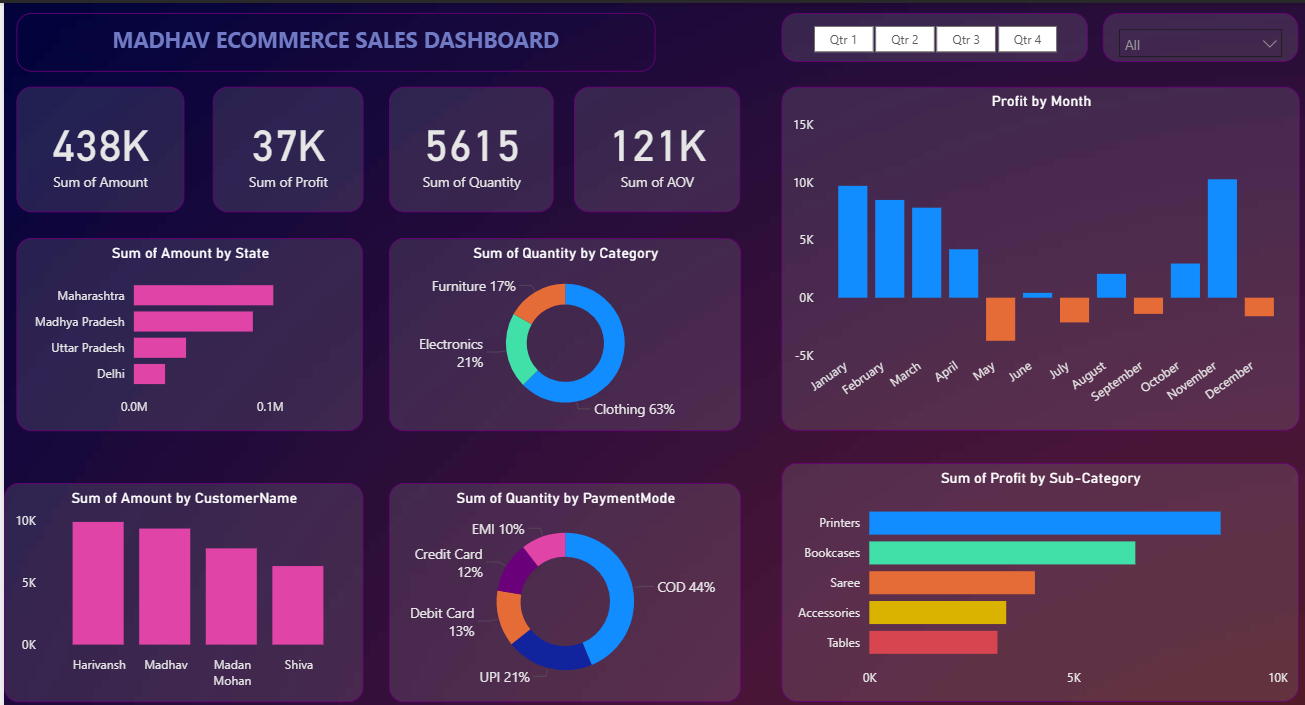

This screenshot's page, from the dashboard's own definition file:
{"tool":"powerbi","page":{"name":"Page 1","canvas":[1280,720],"ordinal":0},"visuals":[{"type":"textbox","box":[12.3,9.6,627.1,57.6],"z":0},{"type":"columnChart","title":"Profit by Month","fields":{"Category":["Orders.Order Date.Variation.Date Hierarchy.Month"],"Y":["Details.Profit"]},"box":[763,82.3,509.1,337.6],"z":1000},{"type":"barChart","fields":{"Category":["Details.Sub-Category"],"Y":["Details.Profit"]},"box":[763,451.5,507.7,234.6],"z":2000},{"type":"donutChart","fields":{"Category":["Details.Category"],"Y":["Details.Quantity"]},"box":[377.4,230.5,345.8,189.4],"z":3000},{"type":"donutChart","fields":{"Y":["Details.Quantity"],"Category":["Details.PaymentMode"]},"box":[377.4,470.7,345.8,215.4],"z":4000},{"type":"card","fields":{"Values":["Details.Amount"]},"box":[12.3,82.3,164.7,123.5],"z":5000},{"type":"card","fields":{"Values":["Details.Quantity"]},"box":[377.4,82.3,161.9,123.5],"z":6000},{"type":"card","fields":{"Values":["Details.Profit"]},"box":[204.5,82.3,148.2,123.5],"z":7000},{"type":"card","fields":{"Values":["Details.AOV"]},"box":[559.9,82.3,163.3,123.5],"z":8000},{"type":"columnChart","fields":{"Category":["Orders.CustomerName"],"Y":["Details.Amount"]},"box":[0,470.7,352.7,215.4],"z":9000},{"type":"barChart","fields":{"Y":["Details.Amount"],"Category":["Orders.State"]},"box":[12.3,230.5,340.3,189.4],"z":10000},{"type":"slicer","fields":{"Values":["Orders.Order Date.Variation.Date Hierarchy.Quarter"]},"box":[763,9.6,300.5,48],"z":11000},{"type":"slicer","fields":{"Values":["Orders.State"]},"box":[1078.6,9.6,192.1,48],"z":12000}]}

Visuals, with their boxes on the page's 1280x720 design canvas (x1, y1, x2, y2). These are canvas units, not pixel positions in the 1305x705 screenshot, which may show the page scaled, cropped or inside an application window:
textbox: bbox(12, 10, 639, 67)
"Profit by Month" columnChart: bbox(763, 82, 1272, 420)
barChart - Details.Sub-Category x Details.Profit: bbox(763, 452, 1271, 686)
donutChart - Details.Category x Details.Quantity: bbox(377, 230, 723, 420)
donutChart - Details.Quantity x Details.PaymentMode: bbox(377, 471, 723, 686)
card - Details.Amount: bbox(12, 82, 177, 206)
card - Details.Quantity: bbox(377, 82, 539, 206)
card - Details.Profit: bbox(204, 82, 353, 206)
card - Details.AOV: bbox(560, 82, 723, 206)
columnChart - Orders.CustomerName x Details.Amount: bbox(0, 471, 353, 686)
barChart - Details.Amount x Orders.State: bbox(12, 230, 353, 420)
slicer - Orders.Order Date.Variation.Date Hierarchy.Quarter: bbox(763, 10, 1064, 58)
slicer - Orders.State: bbox(1079, 10, 1271, 58)
